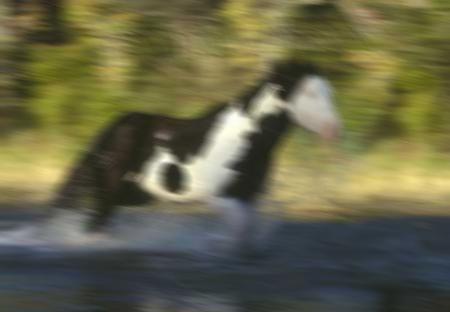horse: (29, 55, 346, 257)
